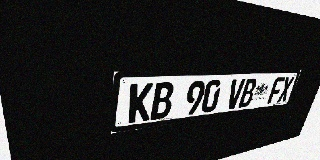0: (200, 80, 222, 113)
9: (184, 80, 207, 115)
B: (150, 82, 175, 120), (238, 78, 258, 108)
F: (267, 77, 285, 104)
K: (128, 83, 154, 123)
V: (225, 79, 246, 110)
X: (277, 77, 295, 102)
